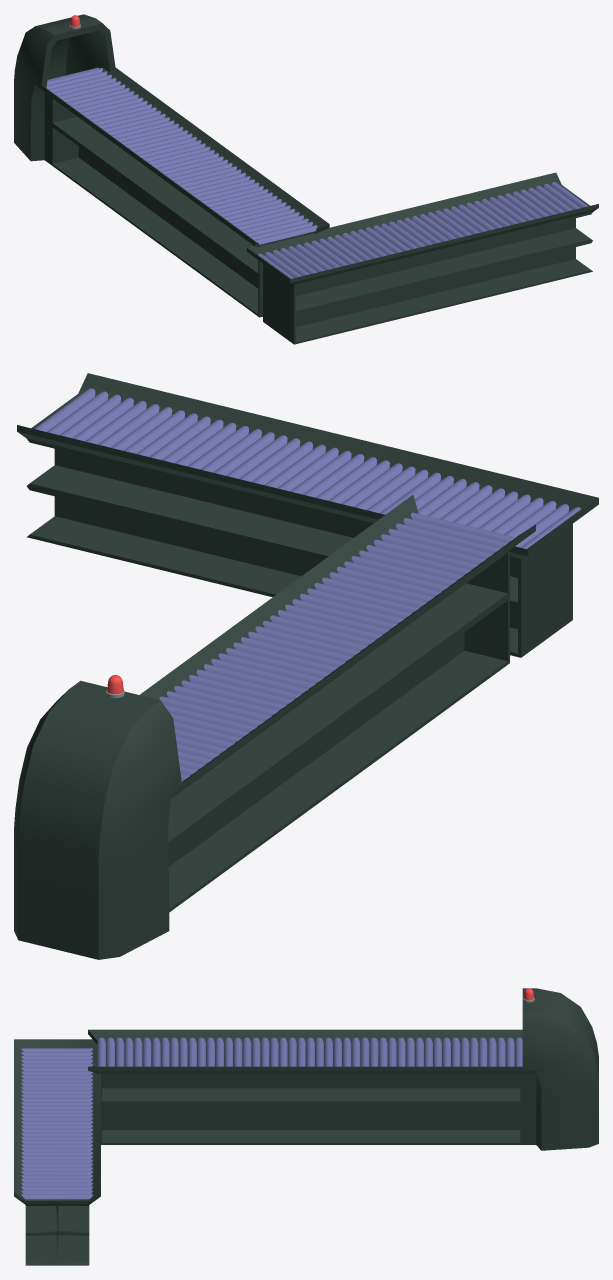
The model's file is Table2.FBX.
3 renders of one model, top to bottom at view 1: azimuth 30°, elevation 25°; view 2: azimuth 150°, elevation 25°; view 3: azimuth 270°, elevation 25°, orthographic. The views are drawn at different scales.
Parts seen in each view (by area): view 1: Box001, Object001, Cylinder001; view 2: Box001, Cylinder001, Object001; view 3: Box001, Cylinder001, Object001.
Boxes of the visible parts, left/top/right/bottom form: Box001: left=14, top=14, right=329, bottom=317; Object001: left=247, top=172, right=598, bottom=344; Cylinder001: left=46, top=67, right=588, bottom=278; Box001: left=14, top=495, right=535, bottom=959; Cylinder001: left=34, top=388, right=580, bottom=781; Object001: left=17, top=373, right=598, bottom=657; Box001: left=88, top=988, right=598, bottom=1150; Cylinder001: left=21, top=1037, right=522, bottom=1199; Object001: left=14, top=1039, right=100, bottom=1265.
Size of the model in its own units: 157 by 68.09 by 254.
